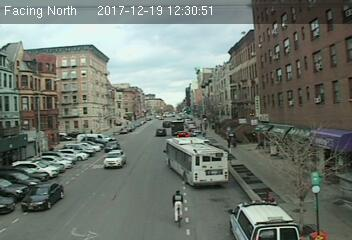bicycle: (170, 187, 186, 229)
bus: (164, 136, 228, 190)
car: (22, 181, 63, 210), (104, 150, 124, 169), (105, 140, 119, 153)
police: (226, 197, 302, 239)
ups: (171, 120, 186, 135)
